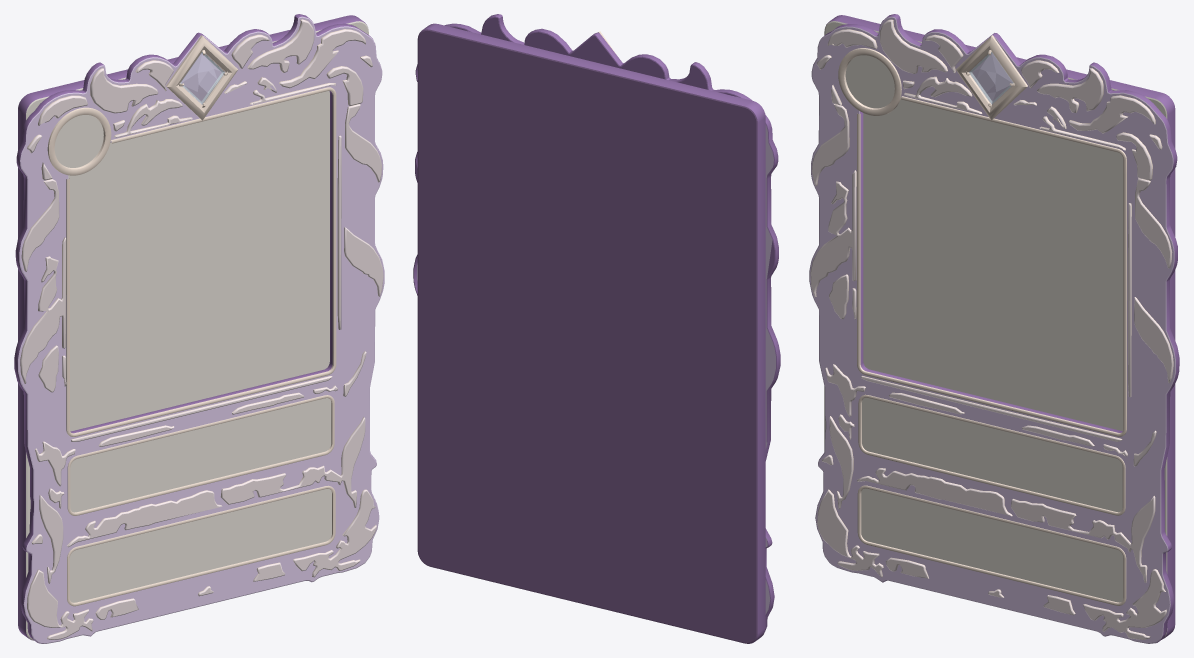
File: card-special.glb
The picture shows the model from 3 angles, left to right: view 1: azimuth 30°, elevation 25°; view 2: azimuth 150°, elevation 25°; view 3: azimuth 330°, elevation 25°; orthographic projection.
Visible parts, largest first — view 1: slab.001, frame, ribbons, name-plate.001, stat-plate.001, wings, rim-window.001, rim-name.001, rim-stat.001, medal-disc.001, setting, rim-medal.001 (+1 smaller); view 2: slab.001, frame; view 3: slab.001, frame, ribbons, name-plate.001, stat-plate.001, wings, rim-window.001, rim-stat.001, rim-name.001, medal-disc.001, setting, rim-medal.001 (+1 smaller).
Boxes of the visible parts, <box> form: slab.001: <box>18,15,368,640</box>; frame: <box>14,14,384,643</box>; ribbons: <box>20,104,383,639</box>; name-plate.001: <box>70,398,331,512</box>; stat-plate.001: <box>69,489,331,602</box>; wings: <box>27,19,372,180</box>; rim-window.001: <box>66,87,336,436</box>; rim-name.001: <box>67,395,334,515</box>; rim-stat.001: <box>67,485,335,606</box>; medal-disc.001: <box>54,115,103,167</box>; setting: <box>166,35,238,120</box>; rim-medal.001: <box>47,107,111,175</box>; slab.001: <box>417,23,765,643</box>; frame: <box>413,14,780,630</box>; slab.001: <box>824,15,1175,639</box>; frame: <box>809,14,1179,643</box>; ribbons: <box>810,104,1173,639</box>; name-plate.001: <box>862,397,1122,512</box>; stat-plate.001: <box>861,488,1123,602</box>; wings: <box>816,19,1162,180</box>; rim-window.001: <box>857,96,1126,436</box>; rim-stat.001: <box>857,485,1126,605</box>; rim-name.001: <box>858,394,1125,515</box>; medal-disc.001: <box>845,55,894,108</box>; setting: <box>955,35,1027,120</box>; rim-medal.001: <box>838,48,901,115</box>.
Size of the model in its own units: 0.9746 by 1.46 by 0.086.
